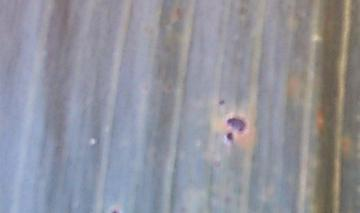tarspot: (226, 116, 247, 133), (226, 132, 235, 143), (218, 99, 225, 107), (111, 208, 117, 213)
